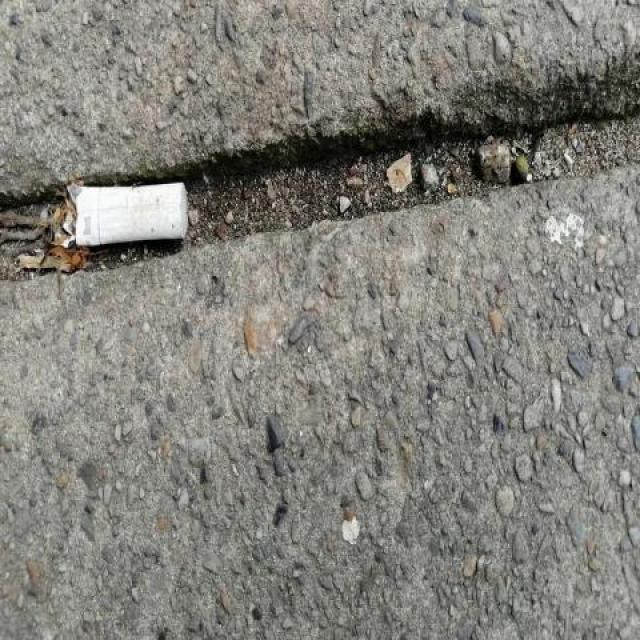non-organic waste: (62, 169, 197, 259)
